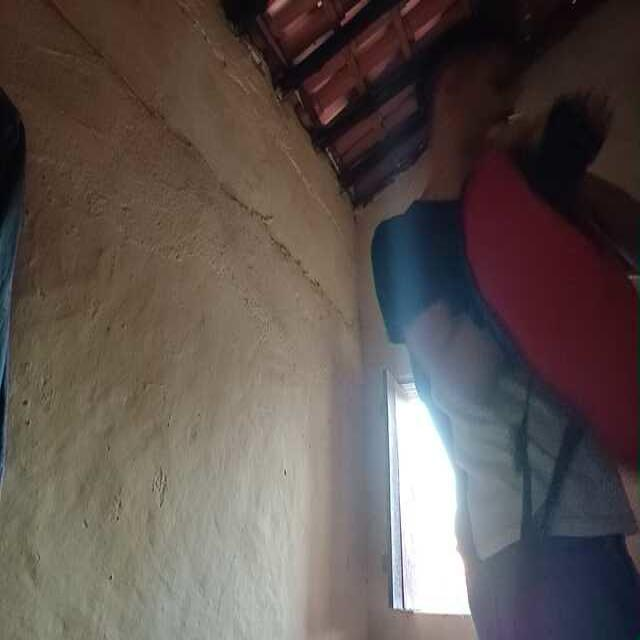colete: (465, 101, 640, 494)
pessoa: (373, 12, 640, 640)
